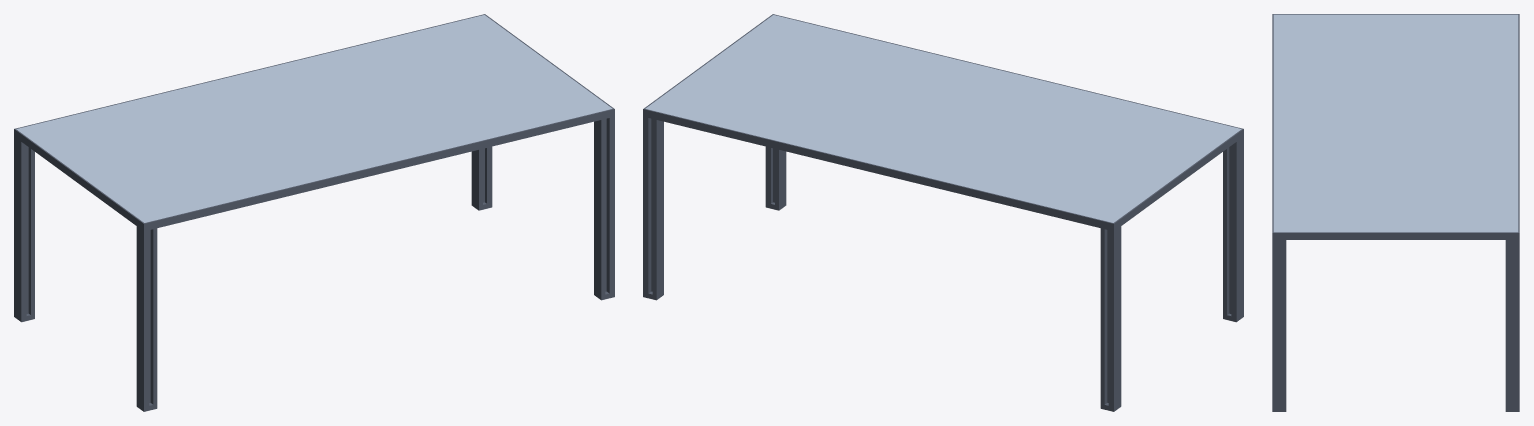
File: mesa_vidrio.glb
3 views of the same model, side by side, from view 1: azimuth 30°, elevation 25°; view 2: azimuth 150°, elevation 25°; view 3: azimuth 270°, elevation 25° (orthographic). The views are drawn at different scales.
Parts seen in each view (by area): view 1: mesa_vidrio; view 2: mesa_vidrio; view 3: mesa_vidrio.
Boxes of the visible parts, bbox=[...] form: mesa_vidrio: bbox=[14, 14, 614, 411]; mesa_vidrio: bbox=[643, 14, 1243, 411]; mesa_vidrio: bbox=[1272, 14, 1519, 411].
Bounding box in the file's own units: 201 × 76.7 × 96.
